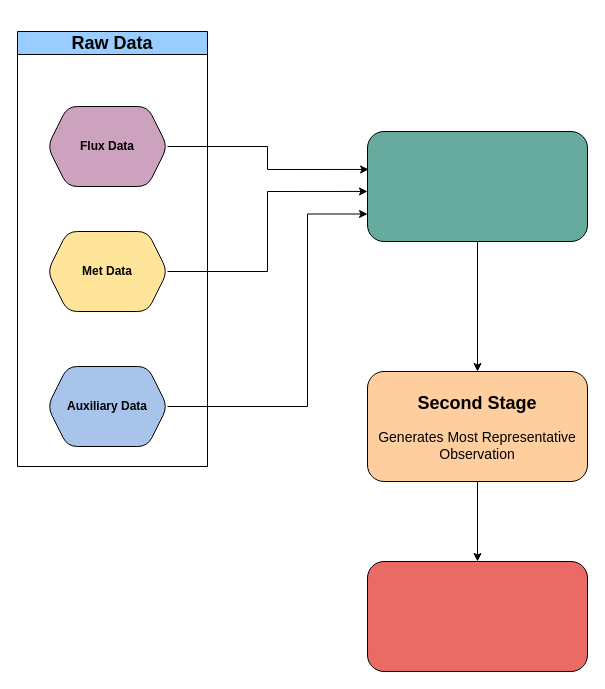
Image size: 605x689. Some labels were removed from this diagram. The shapes that lost their labels are listed below. From the top down, each one's centre as x and y in pixels, then its label:
At (x=477, y=186): "First Stage Standardizes data".
At (x=477, y=616): "Third Stage Flux processing and gap filling".
